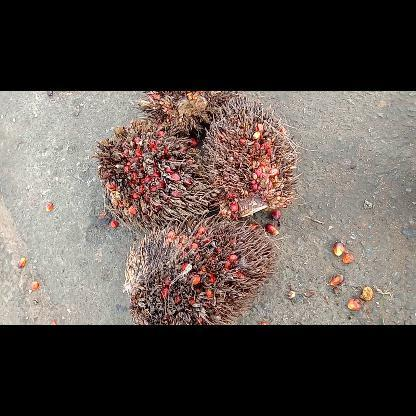Terlalu masak: (117, 210, 279, 324), (88, 117, 222, 235), (198, 94, 304, 222), (134, 90, 238, 148)
